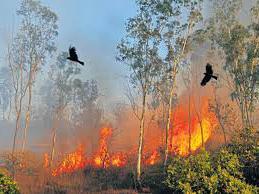fire: (45, 125, 139, 174), (142, 107, 213, 169)
